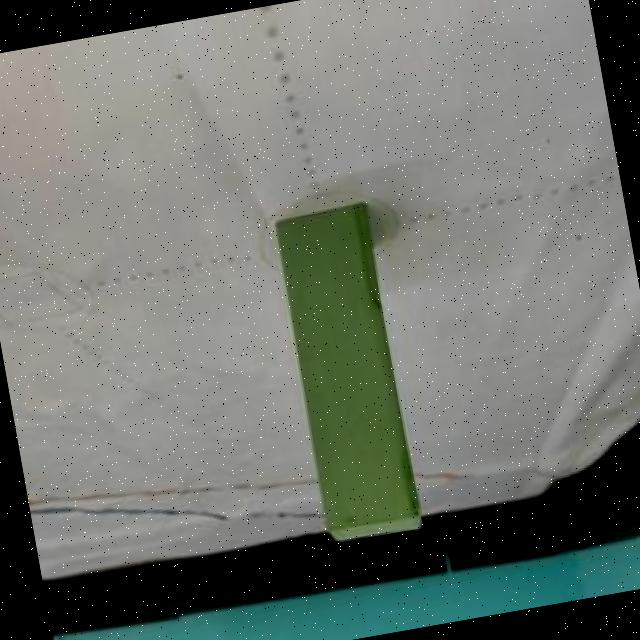greenbox: (266, 202, 424, 545)
